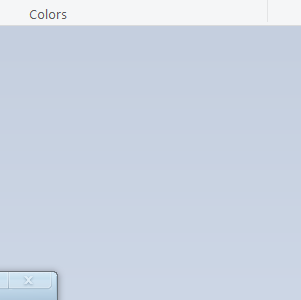close: (8, 271, 52, 289)
